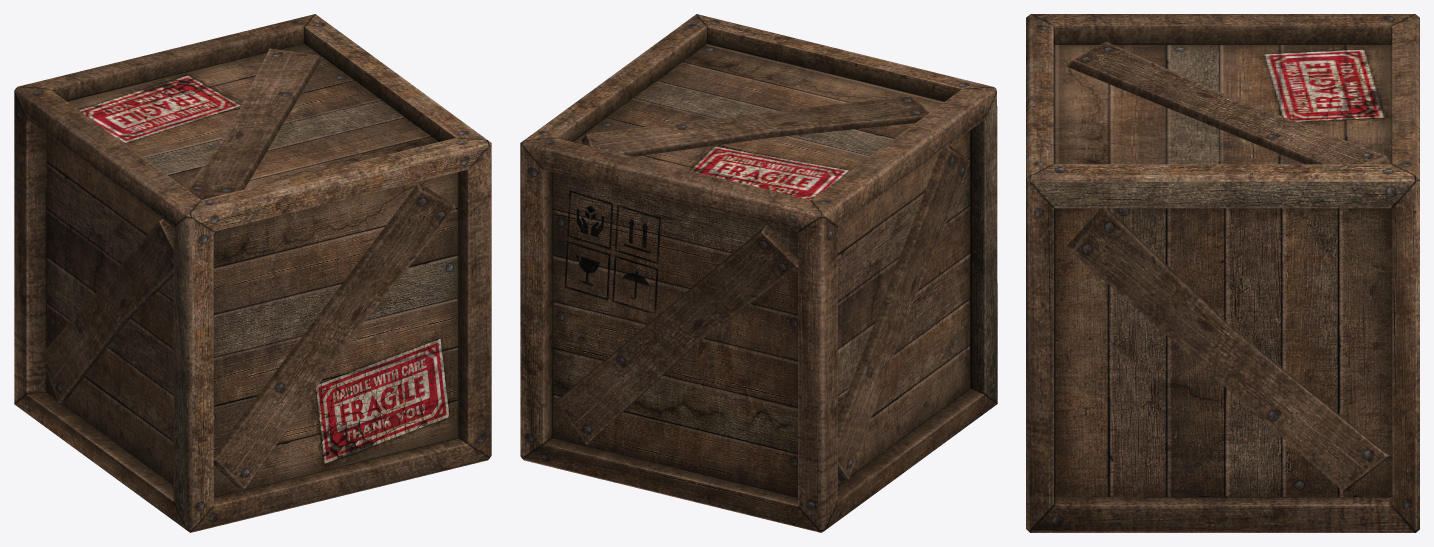
File: crate.glb
The picture shows the model from 3 angles, left to right: view 1: azimuth 30°, elevation 25°; view 2: azimuth 150°, elevation 25°; view 3: azimuth 270°, elevation 25°; orthographic projection. The views are drawn at different scales.
Visible parts, largest first — view 1: crate002_Material #51_0; view 2: crate002_Material #51_0; view 3: crate002_Material #51_0.
Part boxes in pixels (x1,y1,x2,y2): crate002_Material #51_0: (14, 14, 491, 532); crate002_Material #51_0: (520, 14, 997, 532); crate002_Material #51_0: (1026, 14, 1419, 532).
Size of the model in its own units: 60.02 by 60.16 by 60.16.
Materials: 1 (1 with a texture image).
